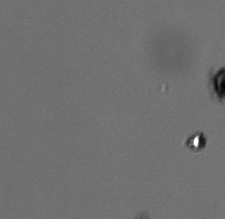Living Cell: (188, 133, 205, 151)
